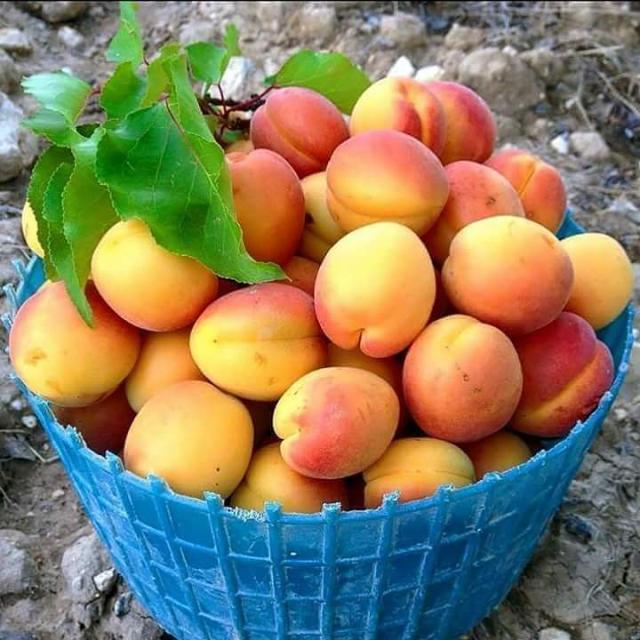kayisi: (273, 89, 621, 512)
kayisi-yapragi: (24, 17, 264, 296)
